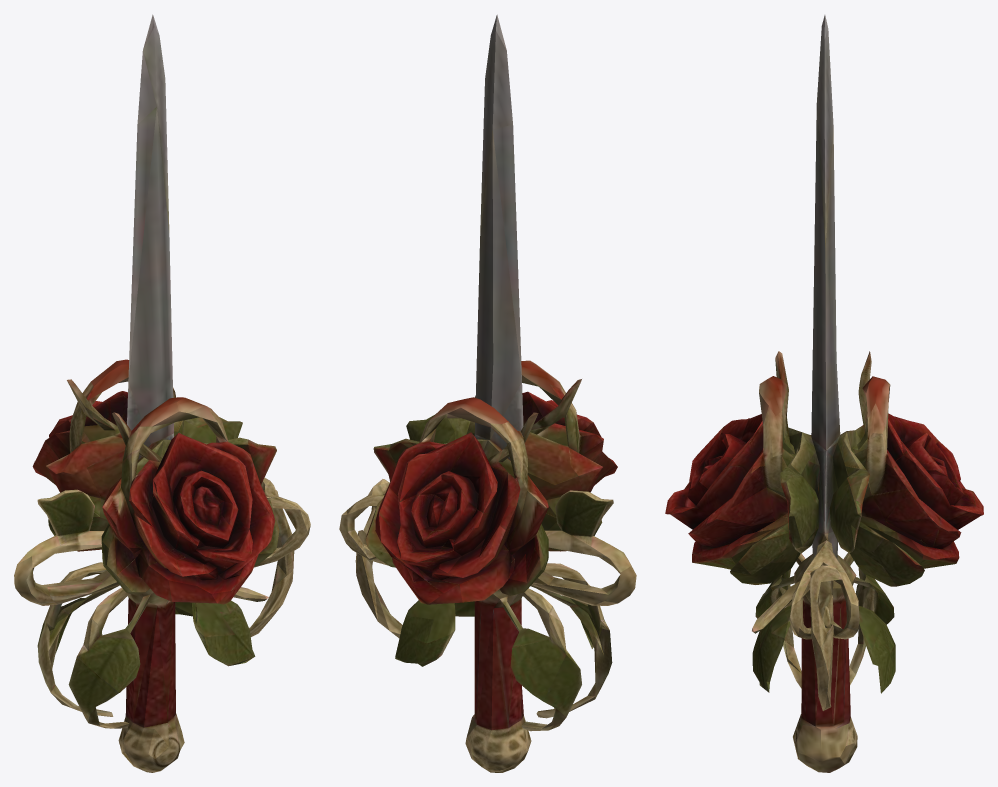
File: rose_rapier.glb
3 renders of one model, left to right at view 1: azimuth 30°, elevation 25°; view 2: azimuth 150°, elevation 25°; view 3: azimuth 270°, elevation 25°, orthographic.
Bounding box in the file's own units: 0.6873 × 1.78 × 0.6759.
Materials: 1 (1 with a texture image).
